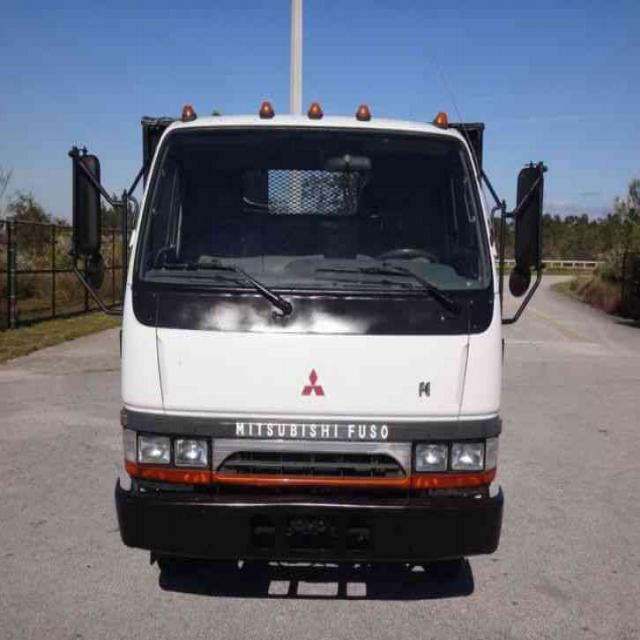truck: (74, 101, 542, 581)
